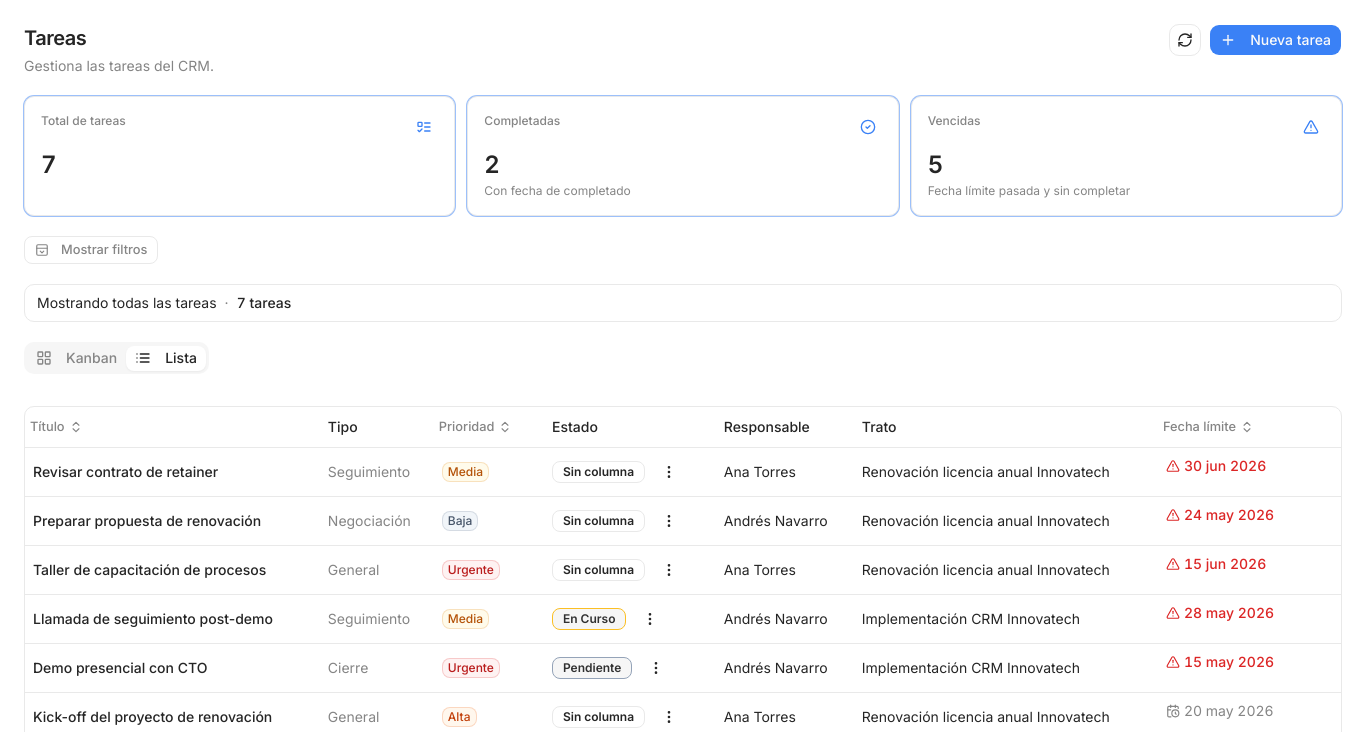
TareasListPage — tabs Lista/Kanban › (tab-c) click en tab "Kanban" desde Lista → tabla no visible, URL limpia sin ?tab=
Expected: the button "Demo presencial con CTO" is shown, [33,658,207,678]
Click the tab "Kanban": (77, 358) [27,346,126,370]
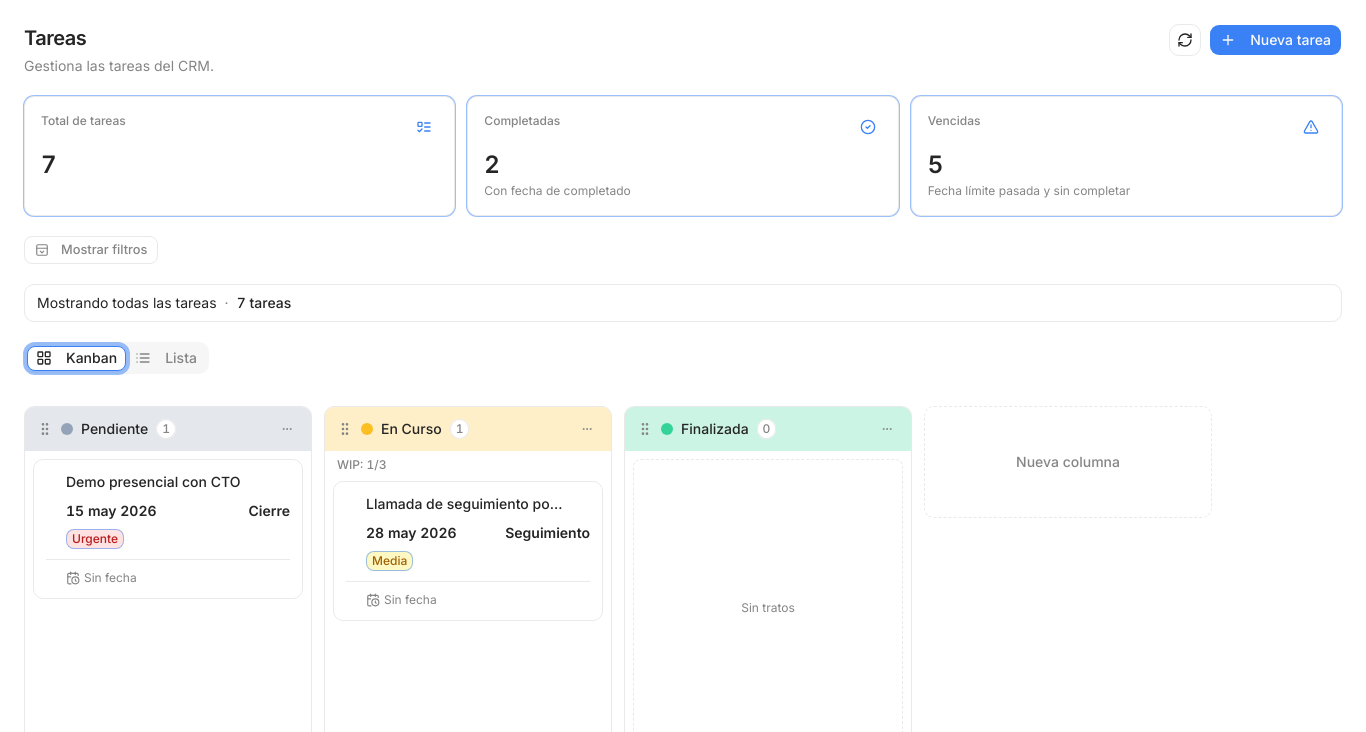
Expected: the tab "Kanban" is selected, [27,346,126,370]
Click the button "Mostrar filtros": (91, 250) [24,236,158,264]
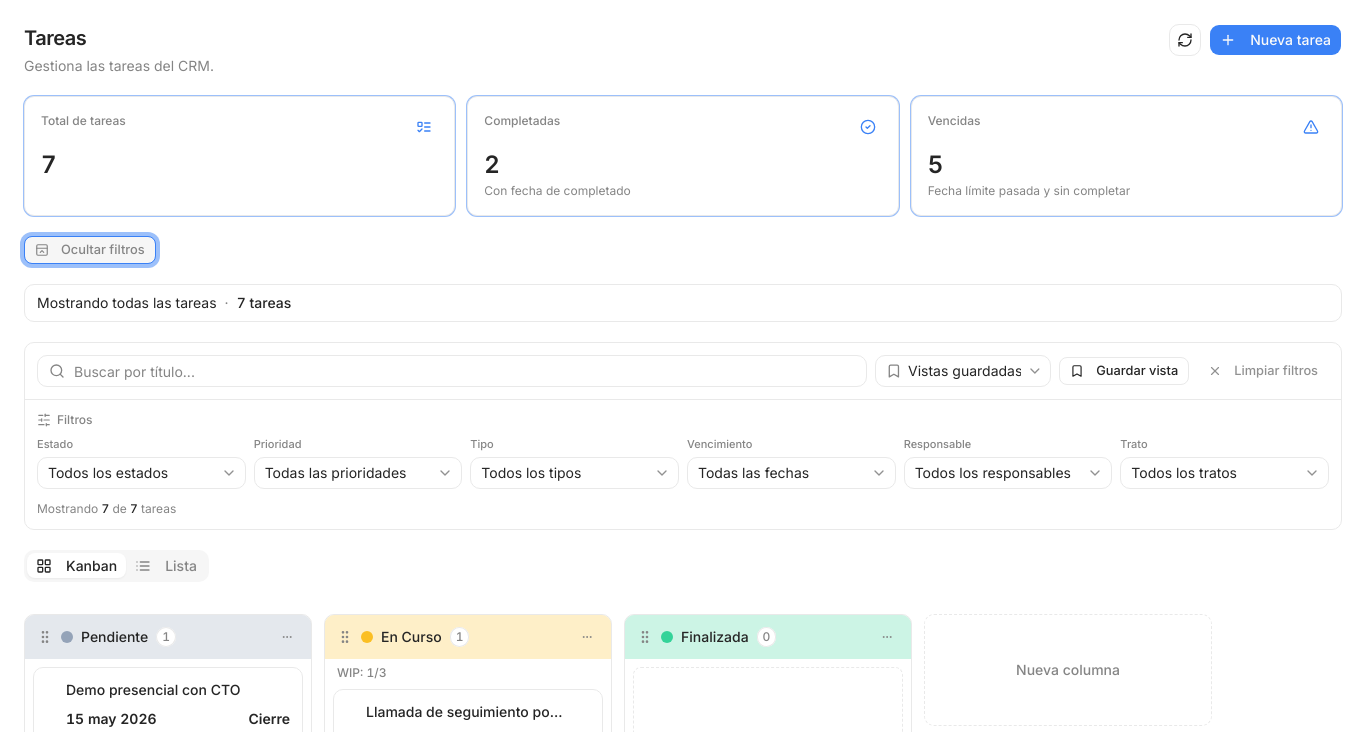
Expected: the button named "mostrar filtros" is expanded, [24,236,156,264]
Expected: the dropdown labelled "Todos los estados" is shown, [37,456,246,488]
Expected: the dropdown labelled "Todas las prioridades" is shown, [254,456,462,488]
